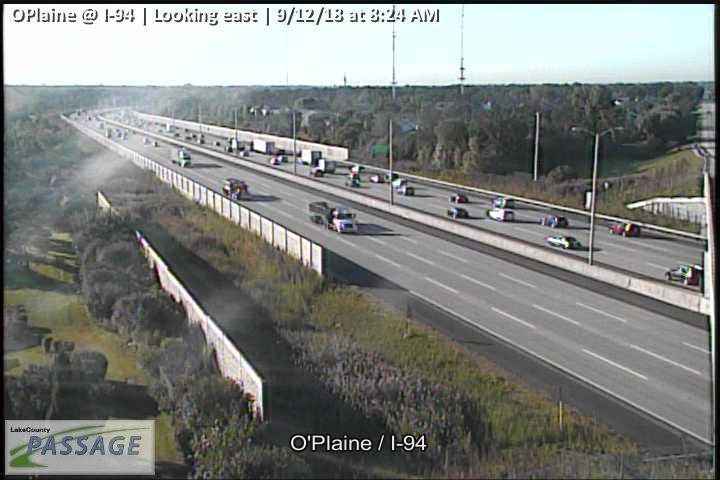Truck: (309, 200, 357, 233), (665, 264, 702, 286), (222, 176, 247, 198), (245, 138, 275, 155), (608, 221, 639, 237), (548, 233, 577, 249), (392, 177, 414, 197), (298, 148, 322, 166), (312, 158, 336, 176), (170, 147, 191, 167), (539, 214, 567, 228), (487, 206, 513, 221), (448, 207, 468, 219), (449, 192, 467, 204), (493, 198, 513, 208)
